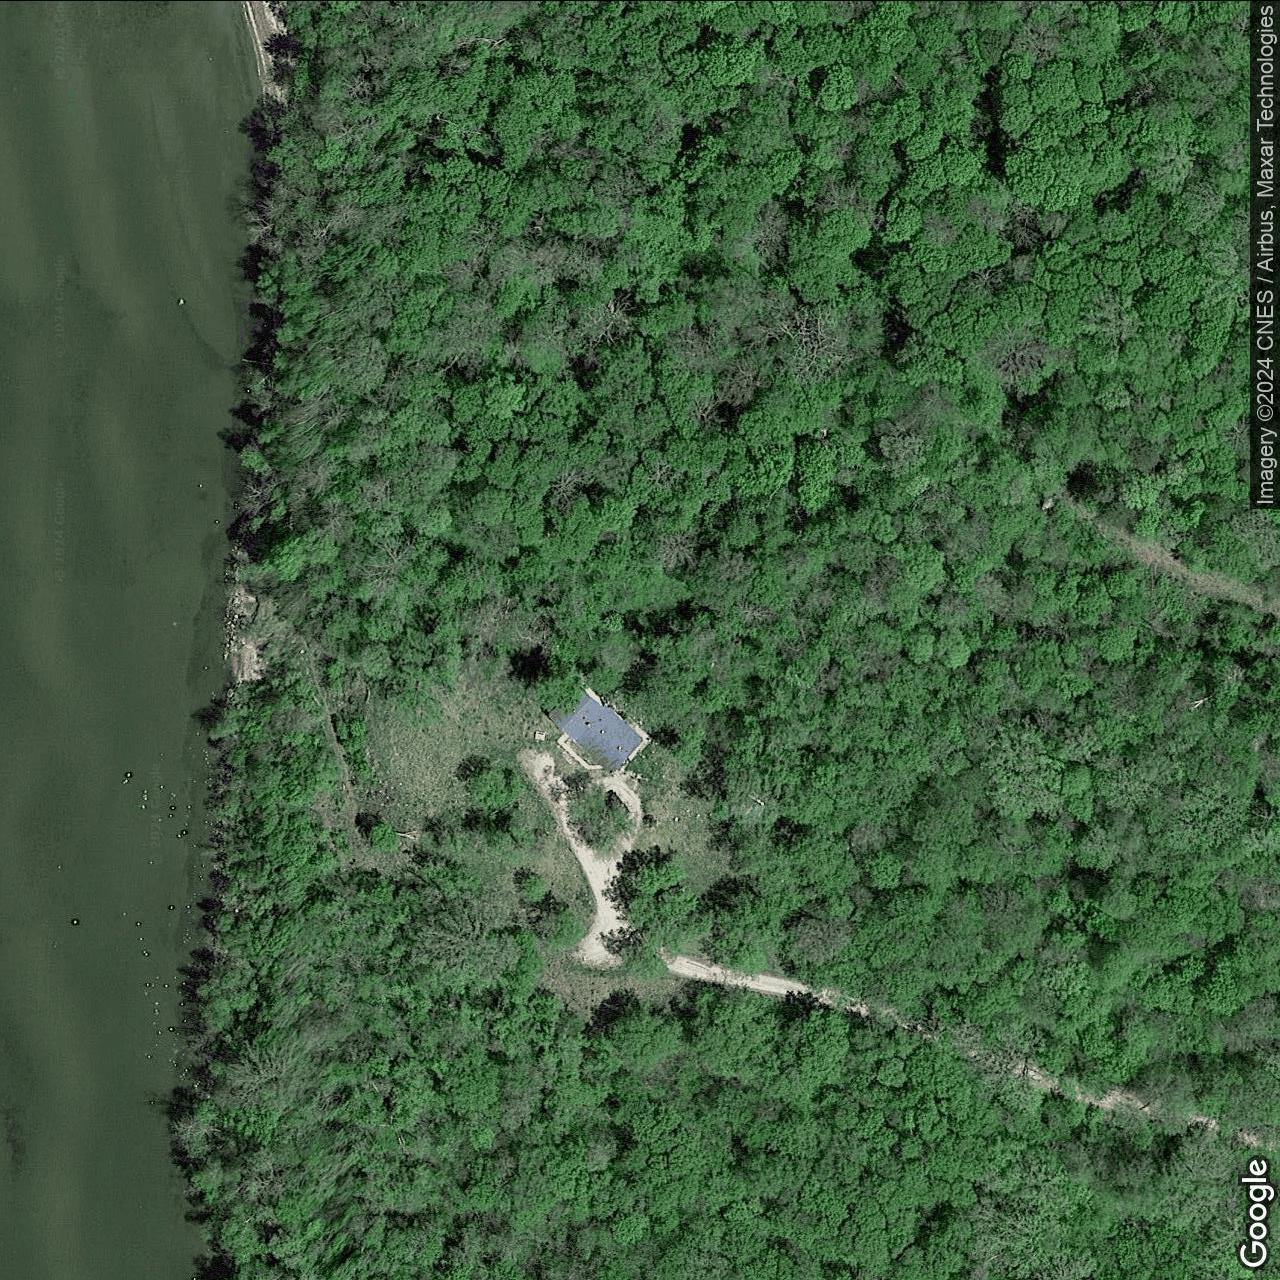House: (546, 681, 645, 776)
